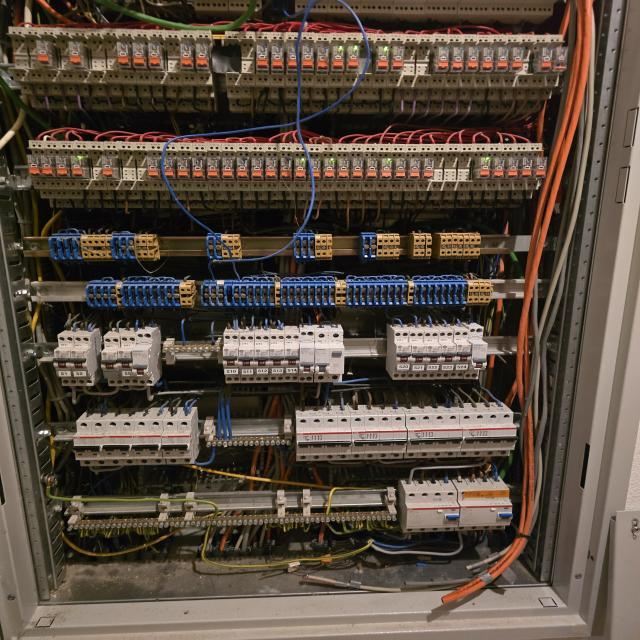FI: (454, 490, 513, 531), (403, 491, 460, 533)
FI_Sicherungskombi: (327, 331, 345, 382)
Relais: (36, 40, 55, 67), (67, 42, 84, 68), (494, 47, 511, 71), (508, 47, 525, 71), (345, 46, 360, 72), (538, 47, 554, 71), (300, 46, 315, 71), (450, 47, 465, 72), (480, 47, 495, 72), (117, 42, 131, 68), (148, 43, 162, 69), (331, 46, 345, 72), (391, 46, 405, 72), (553, 47, 568, 71), (378, 158, 394, 180), (180, 44, 194, 69), (271, 46, 285, 71), (286, 46, 300, 71), (317, 47, 331, 72), (436, 47, 450, 72), (133, 43, 146, 69), (465, 47, 479, 71), (55, 155, 70, 177), (336, 158, 351, 180), (195, 44, 208, 69), (376, 47, 389, 72), (206, 157, 220, 180), (221, 157, 235, 180), (532, 158, 548, 178), (40, 155, 55, 176), (146, 157, 161, 178), (477, 157, 492, 178), (101, 156, 115, 178), (176, 157, 190, 179), (191, 158, 205, 180), (307, 158, 321, 180), (322, 158, 336, 180), (350, 158, 364, 180), (364, 158, 378, 180), (421, 158, 435, 180), (236, 157, 249, 180), (251, 158, 264, 181), (70, 156, 84, 177), (161, 157, 175, 178), (492, 158, 506, 179), (293, 158, 306, 180), (393, 158, 406, 180), (27, 155, 41, 175), (505, 158, 519, 178), (257, 46, 268, 71), (519, 158, 533, 177), (266, 157, 278, 179), (280, 158, 292, 180), (409, 158, 421, 179)
Sicherungen_230V: (53, 335, 78, 386), (464, 327, 487, 379), (70, 335, 93, 386), (132, 332, 153, 386), (101, 336, 123, 386), (435, 330, 457, 380), (449, 329, 471, 379), (117, 335, 138, 386), (73, 420, 95, 466), (407, 331, 427, 380), (421, 331, 441, 380), (222, 333, 241, 384), (88, 420, 109, 466), (102, 420, 123, 466), (131, 420, 152, 465), (392, 331, 411, 380), (146, 419, 166, 465), (117, 420, 137, 465), (161, 419, 181, 464), (298, 330, 315, 382), (313, 331, 330, 382), (175, 419, 194, 464), (238, 334, 255, 384), (253, 333, 270, 383), (269, 333, 285, 383), (284, 333, 300, 382)
Sicherungen_400V: (456, 412, 517, 457), (403, 414, 462, 459), (349, 415, 407, 460), (296, 416, 352, 461)
Verbinder: (201, 279, 492, 307), (86, 281, 194, 307), (49, 234, 161, 259), (435, 232, 480, 259), (293, 234, 332, 260), (361, 234, 399, 260), (206, 234, 241, 260), (410, 233, 431, 259)
